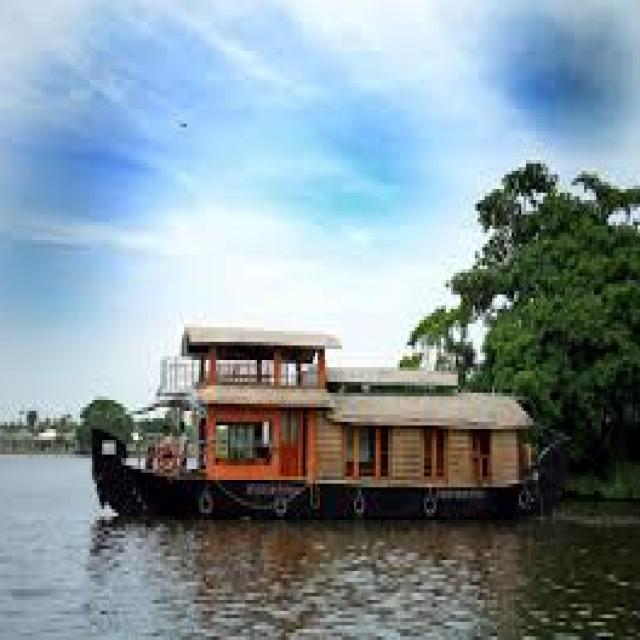fishing boat: (89, 323, 564, 529)
